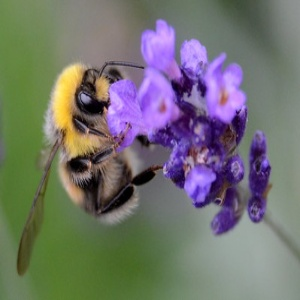bee: (15, 61, 164, 284)
